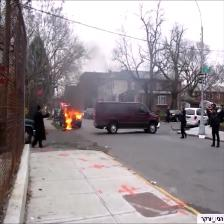fire: (55, 96, 88, 139)
